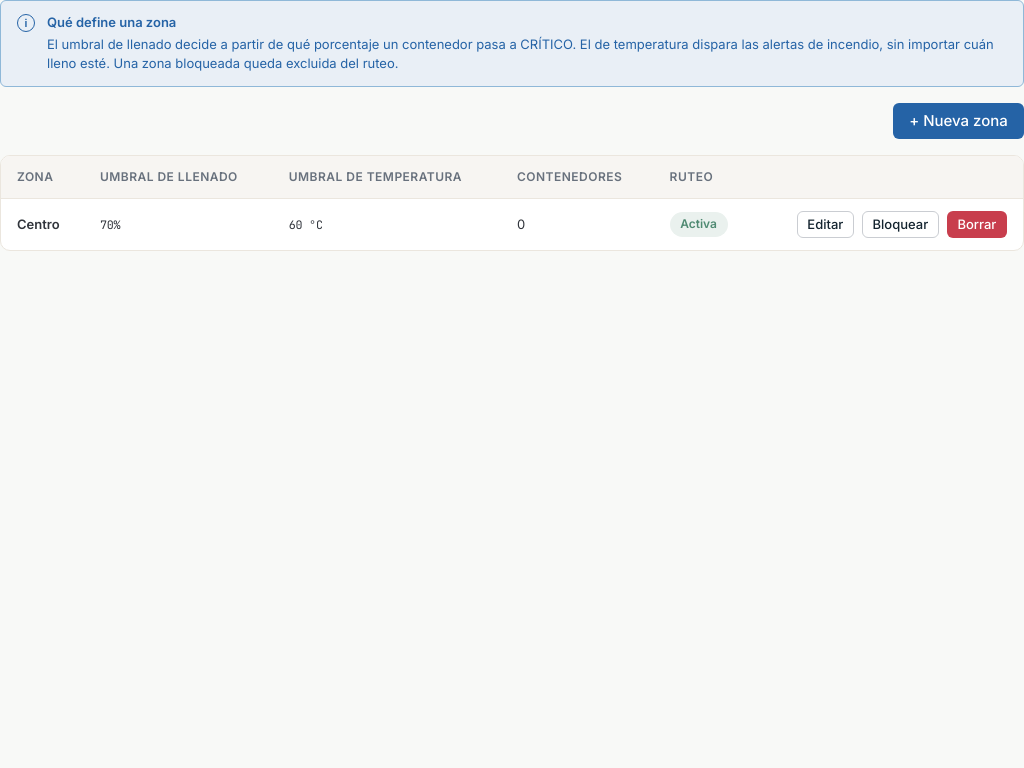
Test: CU-02 zonas y umbrales › si el 409 llega igual, muestra cuantos contenedores quedan
The image size is (1024, 768).
Expected: the text "Centro" is shown, [17,216,60,232]
Click the button "Borrar": point(977, 224) [947,211,1007,238]
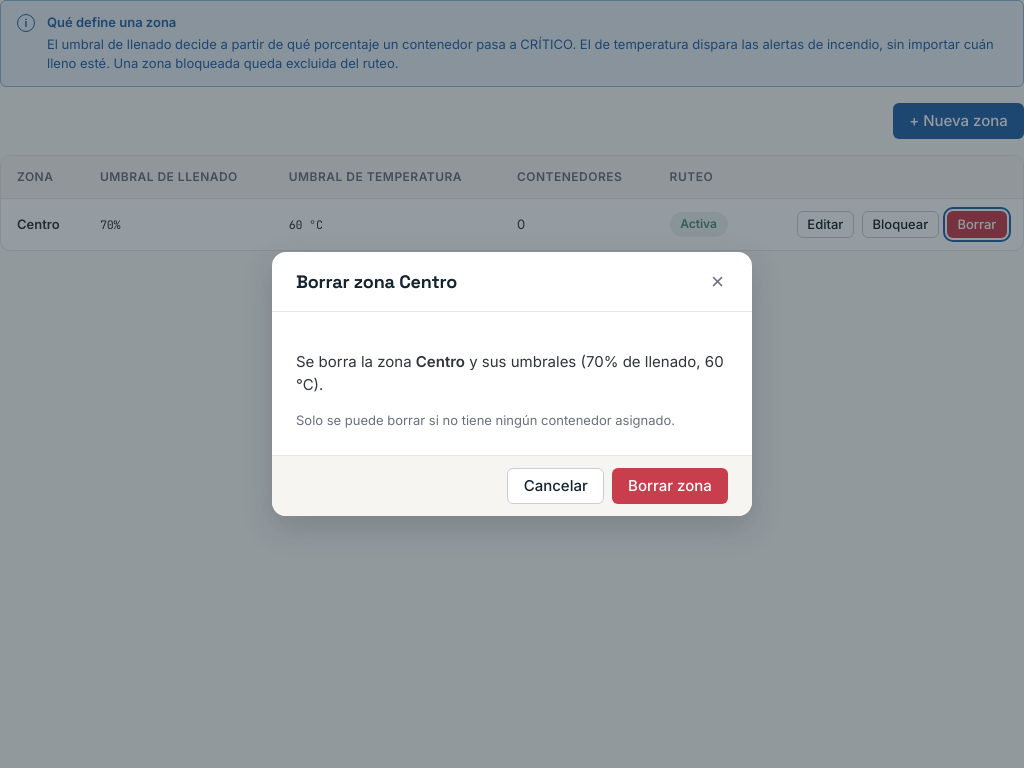
Click the button "Borrar zona": point(670, 486) [612,468,728,504]
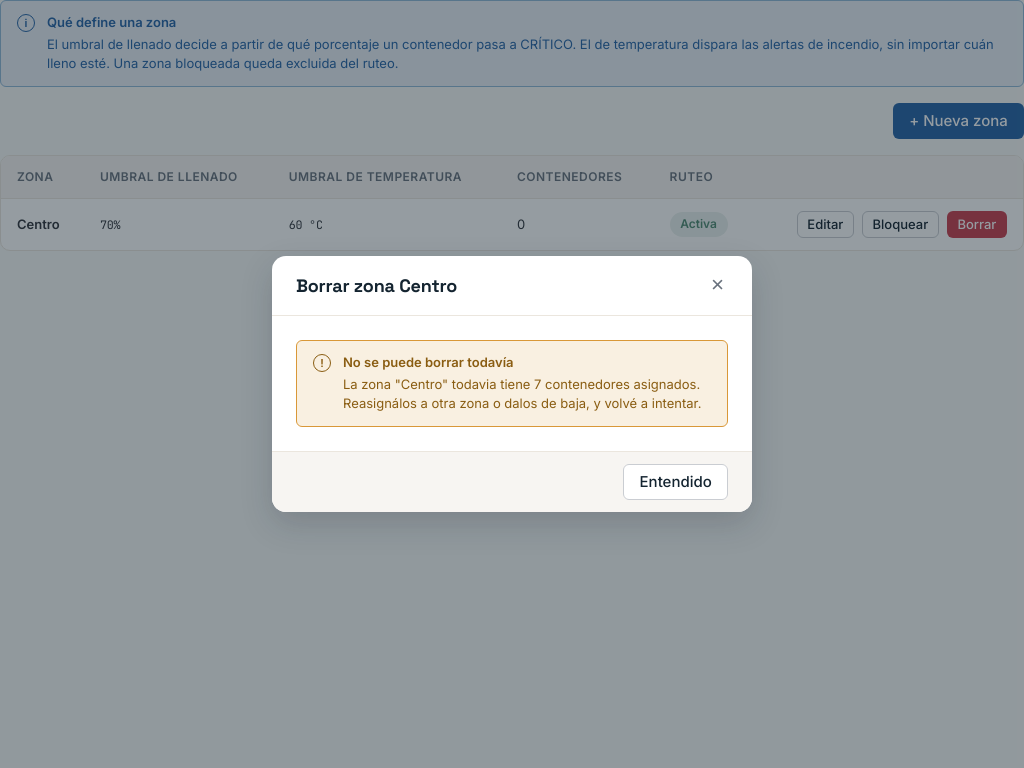
Now the text "7 contenedores" is shown, box [343,376,696,392]
